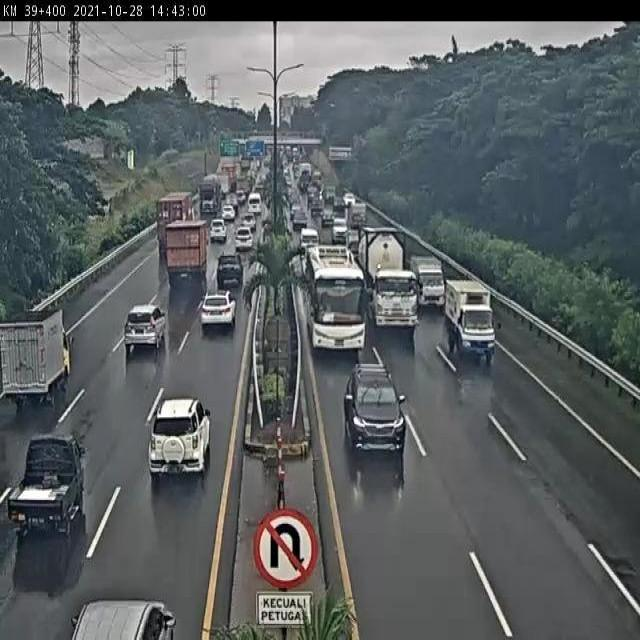big bus: (308, 248, 376, 368)
big truck: (358, 222, 421, 334), (156, 193, 199, 260), (165, 220, 208, 283)
car: (342, 362, 408, 462), (148, 398, 213, 482), (123, 304, 165, 351), (200, 286, 236, 326), (220, 249, 243, 280), (300, 229, 323, 259), (332, 216, 350, 247), (296, 211, 312, 233), (211, 217, 226, 240), (237, 226, 253, 246)
small truck: (6, 433, 84, 548), (0, 308, 78, 411), (444, 276, 502, 364), (411, 256, 447, 317)
